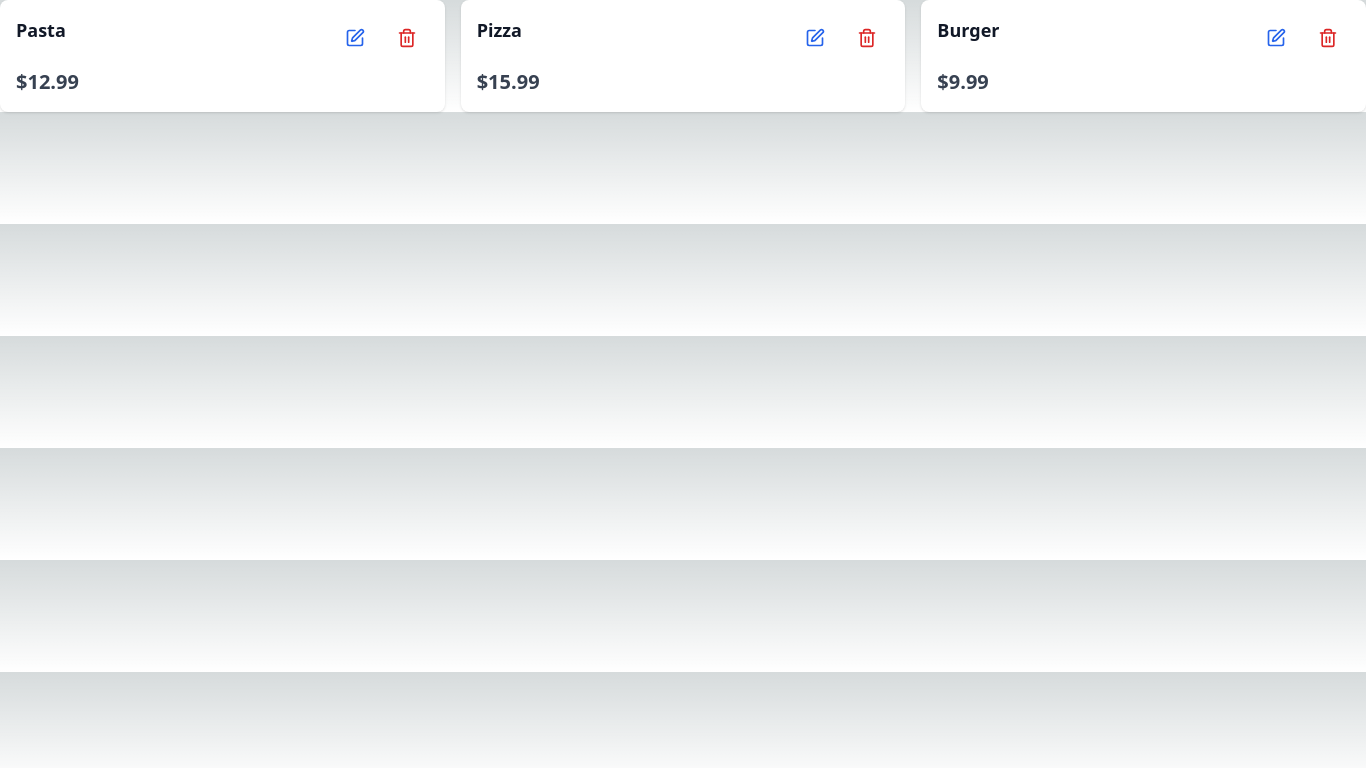
Scenario: MenuList › shows delete confirmation when delete button is clicked
The image size is (1366, 768).
Click the button named "delete" at coordinates (407, 38), box [385,16,429,60]
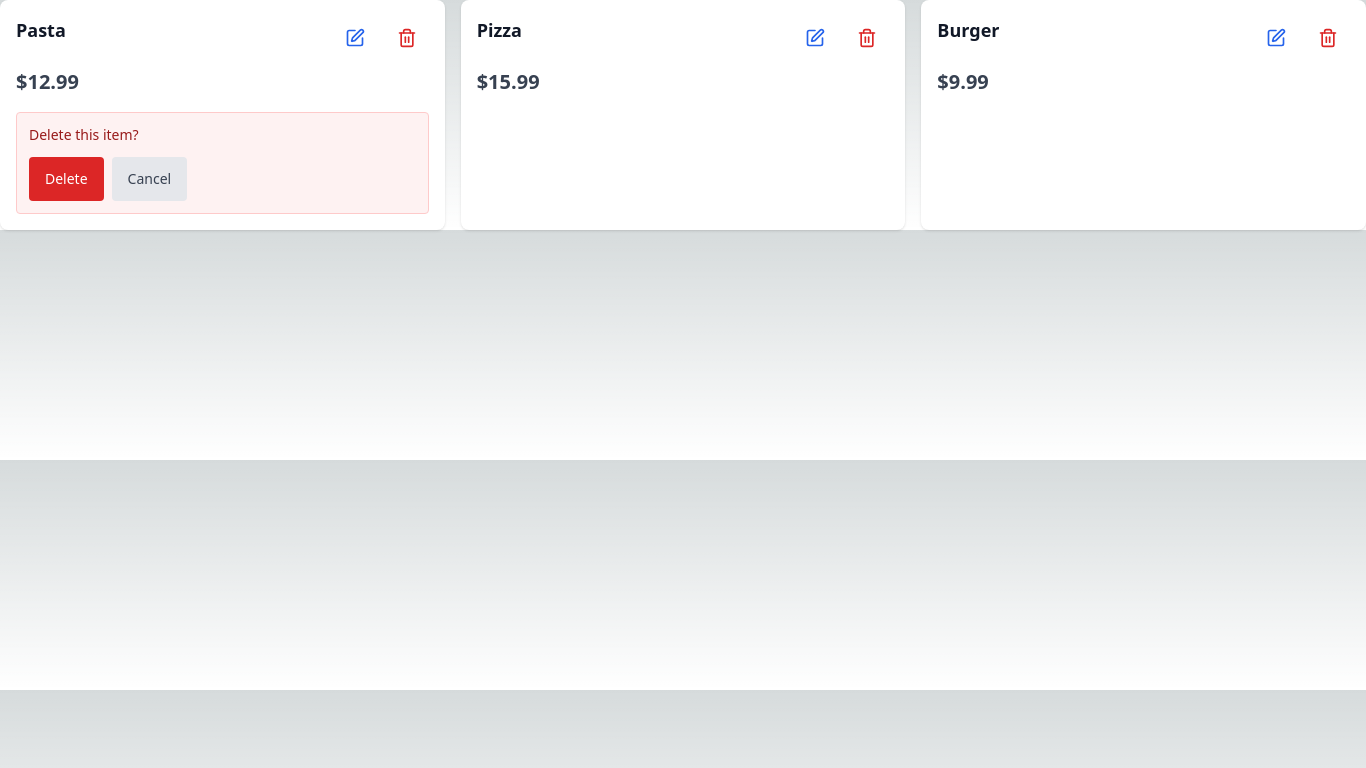
Result: the text "Delete this item?" is shown at [29,125,139,144]
Result: the button "Delete" is shown at [29,157,104,201]
Result: the button "Cancel" is shown at [112,157,187,201]
